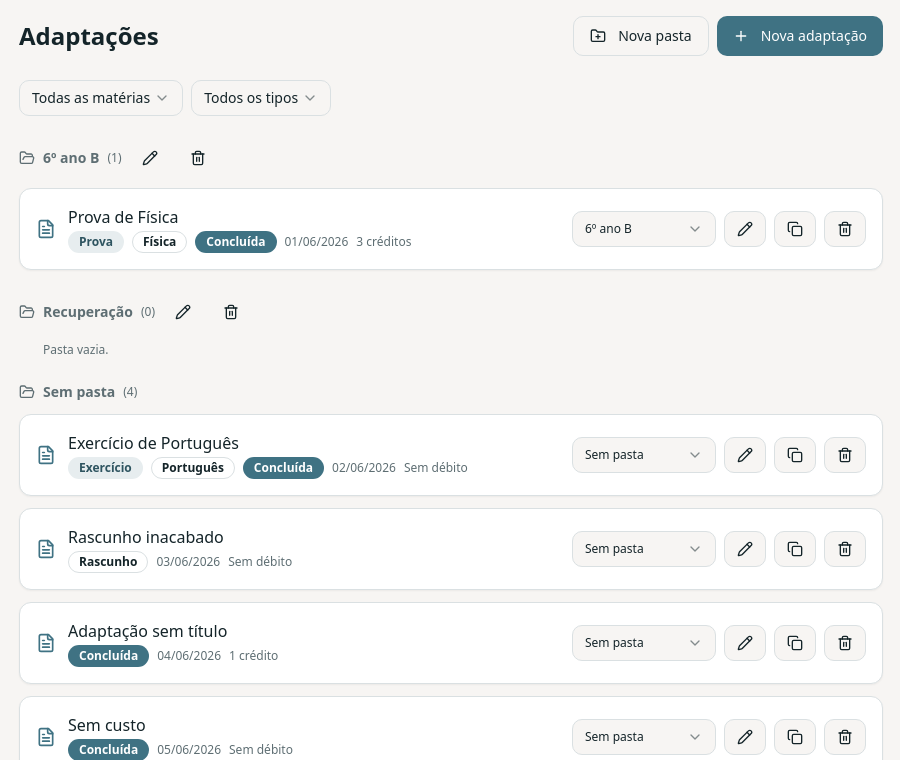
AdaptacoesPage › filtros › filters by matéria
This screenshot has width=900, height=760.
Click the dropdown named "Filtrar por matéria". click: (101, 98)
box: top-left (19, 80), bottom-right (183, 116)
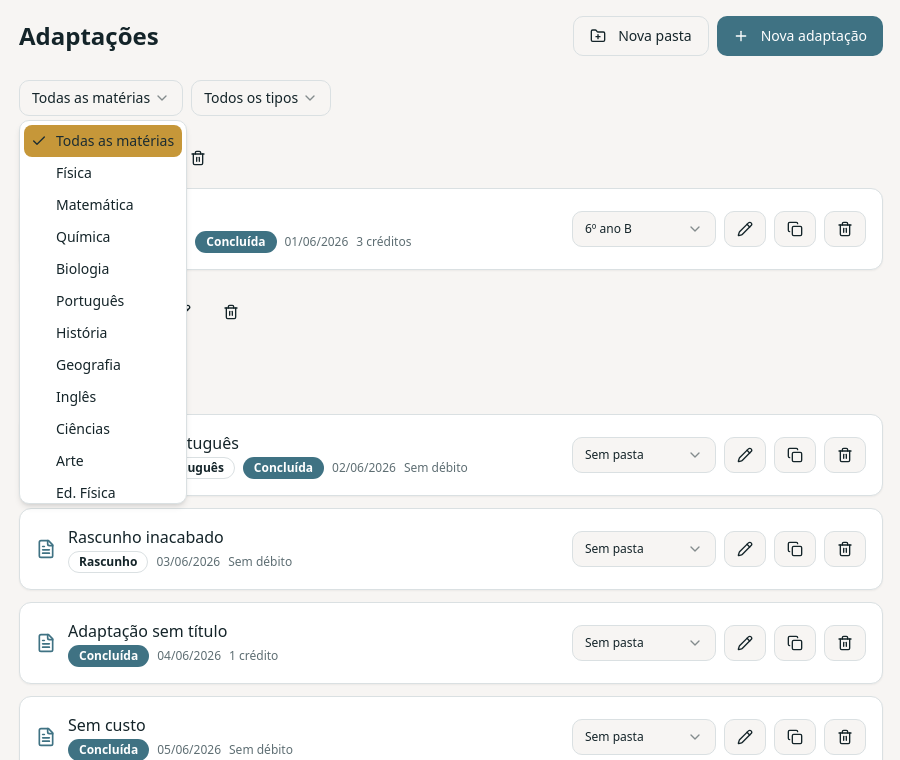
Result: the option "Física" is shown
Click the option "Física". click: (74, 172)
box: top-left (56, 163), bottom-right (92, 182)
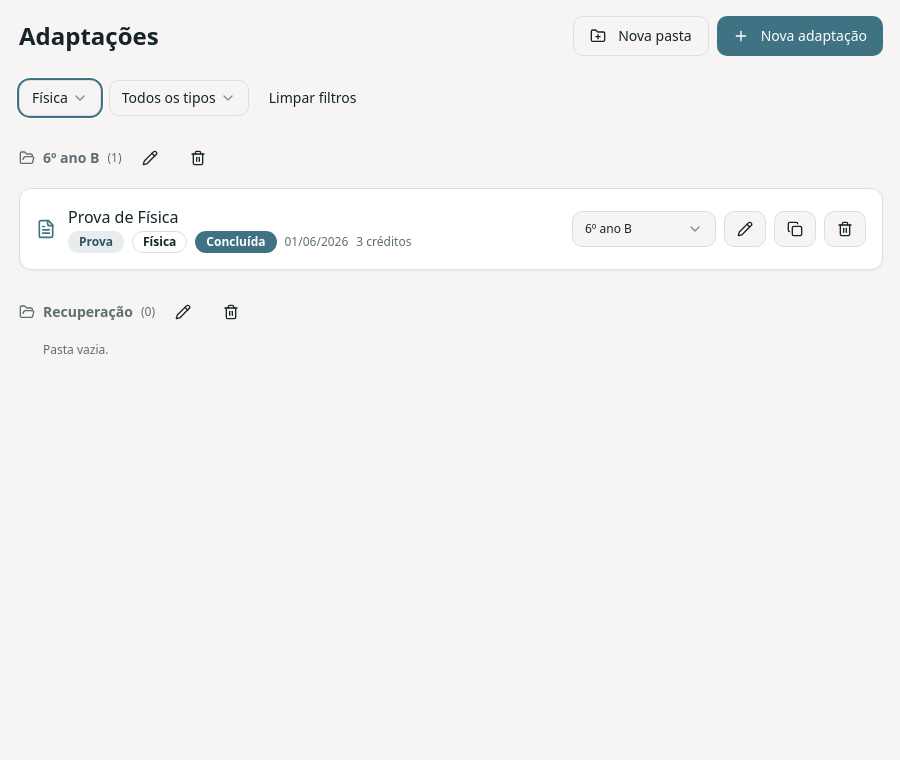
Expected: the text "Prova de Física" is shown, top-left (68, 206), bottom-right (178, 228)
Result: the text "Exercício de Português" is gone
